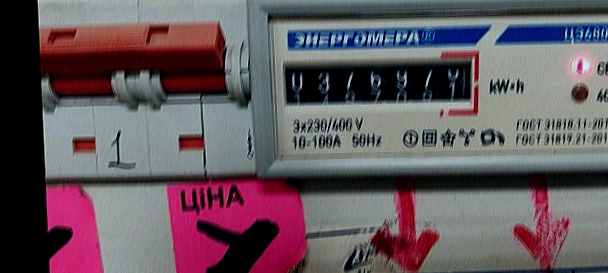0: (286, 69, 301, 92)
1: (443, 80, 455, 101)
3: (314, 72, 329, 93)
6: (365, 65, 381, 89)
7: (339, 68, 355, 92), (417, 66, 433, 90)
9: (391, 66, 406, 89)
screen: (271, 41, 483, 126)
